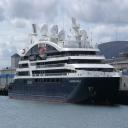cruises: (8, 18, 124, 110)
